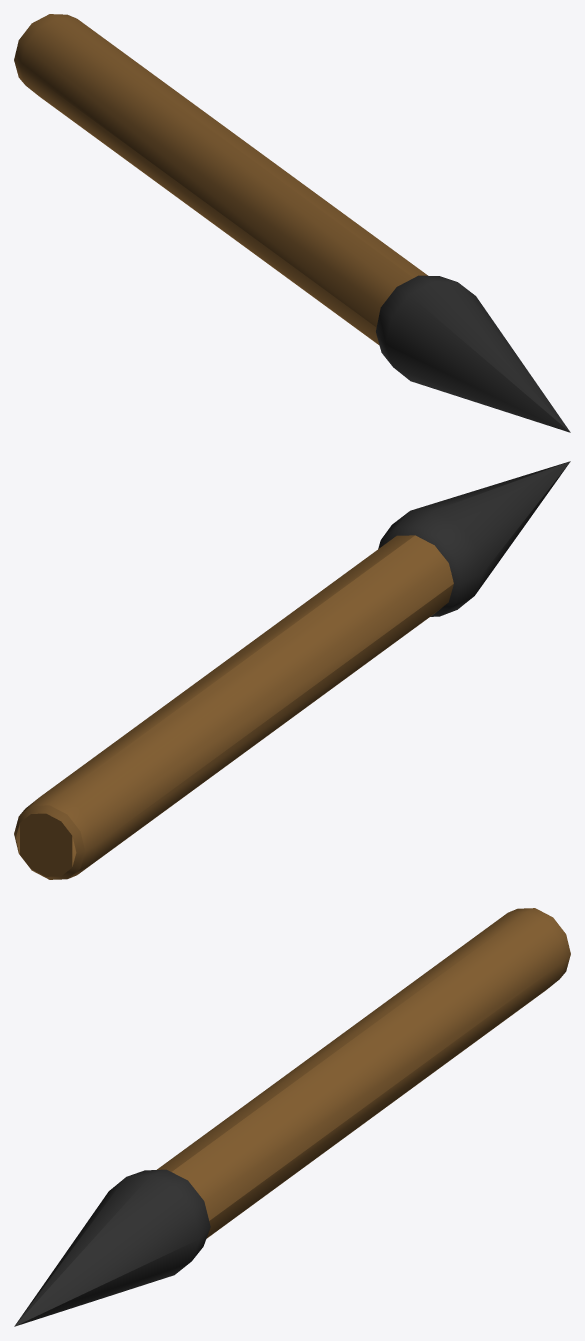
Rendered from dart (1).fbx.
3 renders of one model, top to bottom at view 1: azimuth 30°, elevation 25°; view 2: azimuth 150°, elevation 25°; view 3: azimuth 330°, elevation 25°, orthographic.
Parts seen in each view (by area): view 1: Spear; view 2: Spear; view 3: Spear.
Boxes of the visible parts, bbox=[...] form: Spear: bbox=[14, 14, 570, 432]; Spear: bbox=[14, 461, 570, 879]; Spear: bbox=[14, 908, 570, 1326].
Size of the model in its own units: 0.0717 by 0.0706 by 0.6703.
